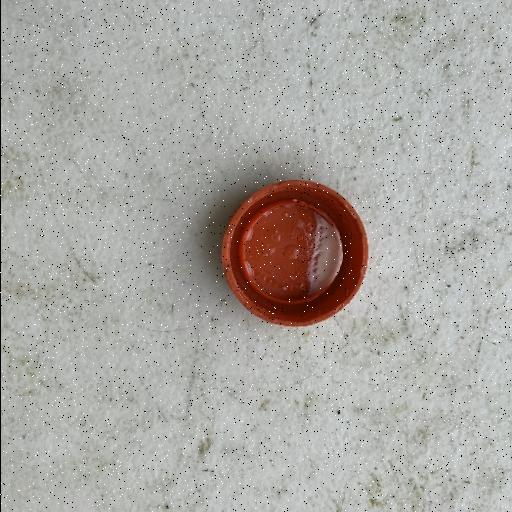Plastic: (218, 176, 370, 328)
